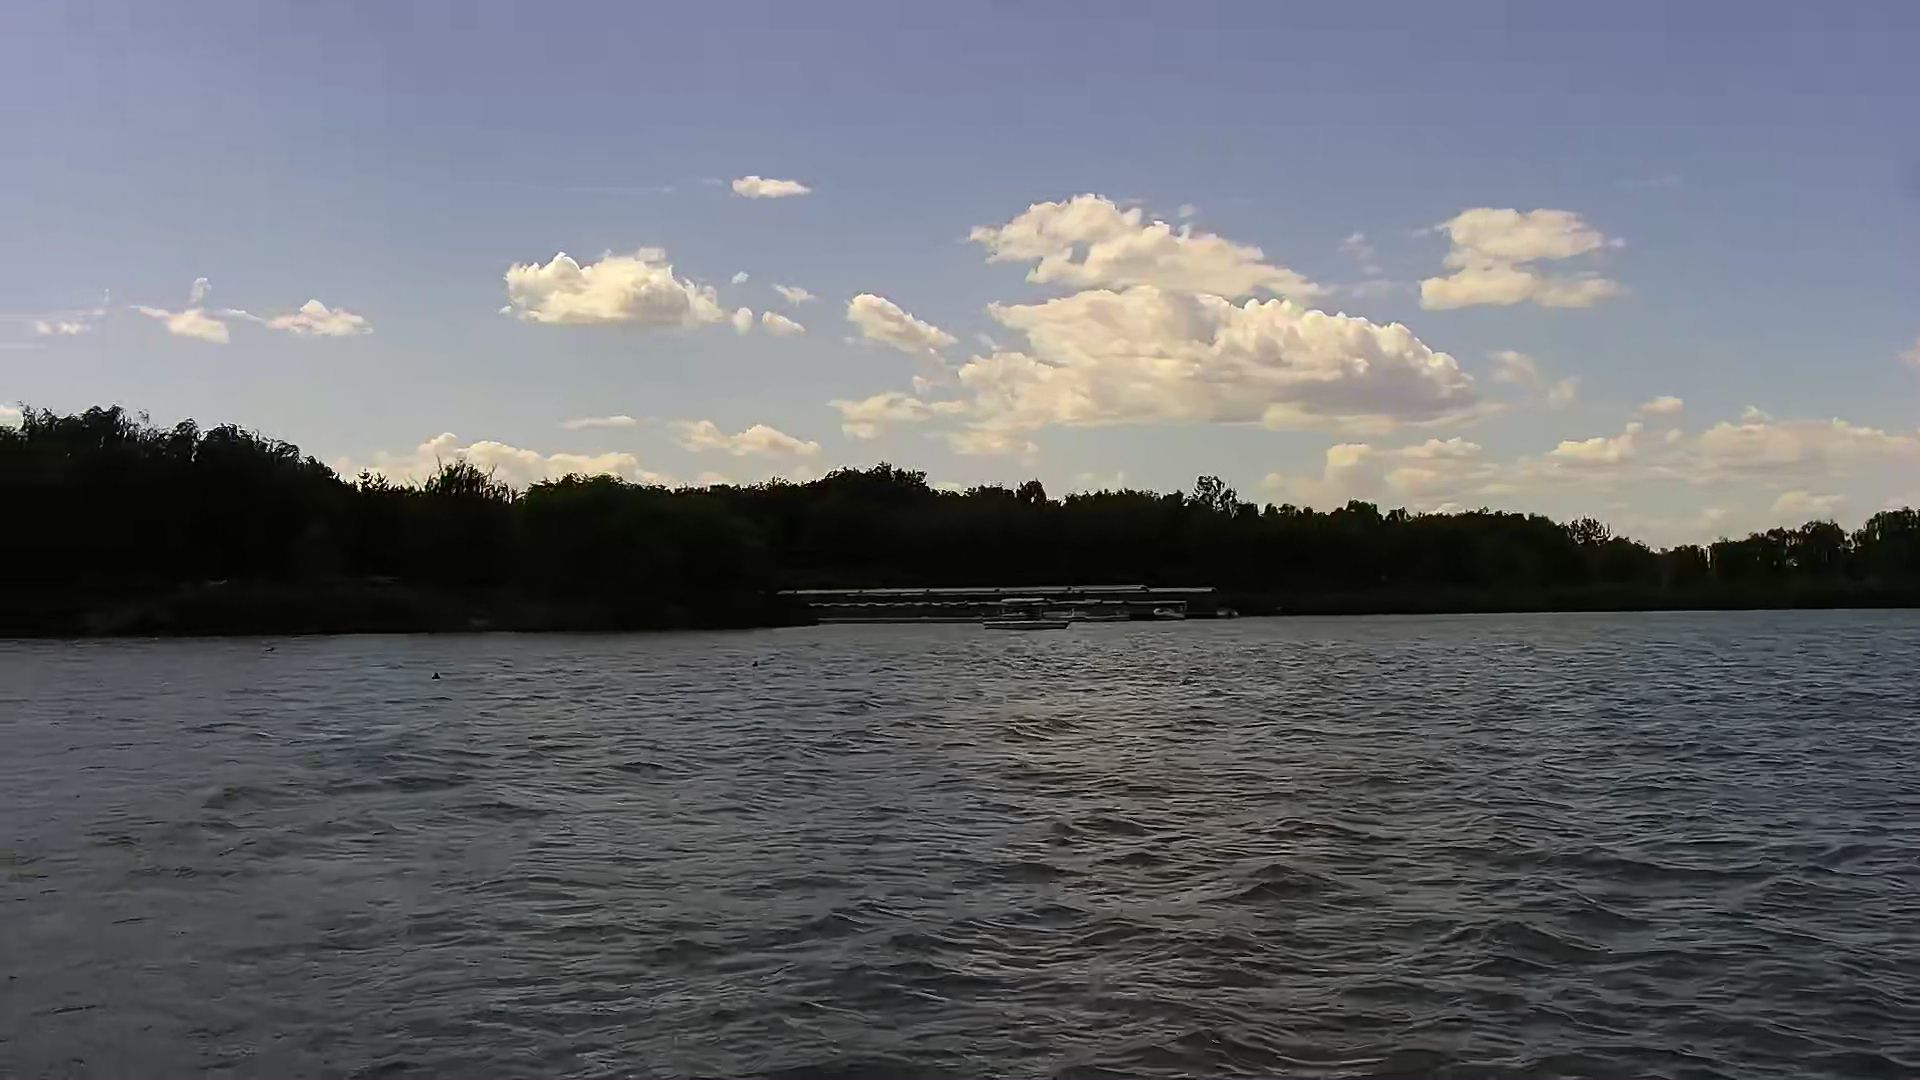boat: (992, 597, 1064, 634)
harbor: (773, 585, 1234, 625)
